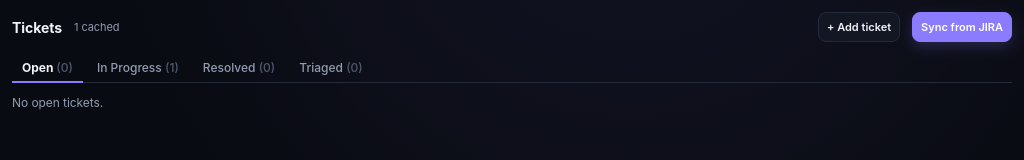
TicketsPage › shows an empty-tab hint when a tab has no tickets
Click the button with test id "tickets-tab-resolved". click: (239, 68)
box: [193,54,285,83]
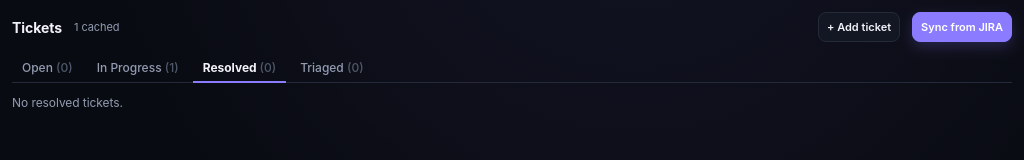
Result: the text with test id "tickets-empty-tab" shows "No resolved tickets" at [12,95,123,110]
